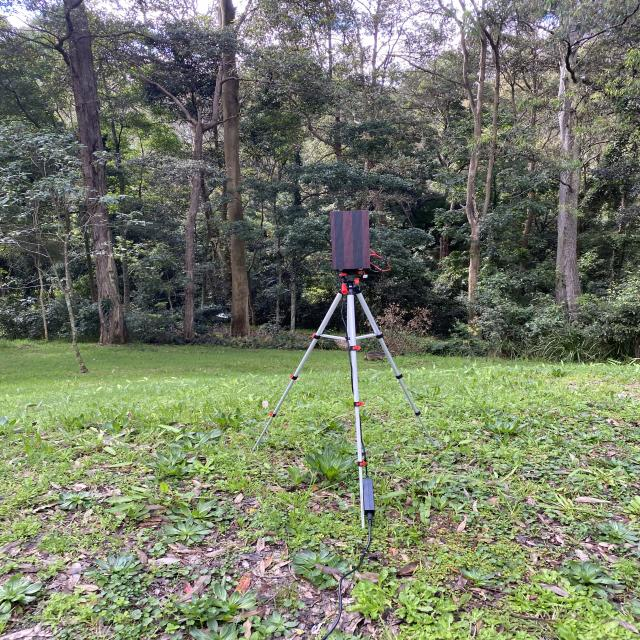matrix: (329, 210, 372, 269)
